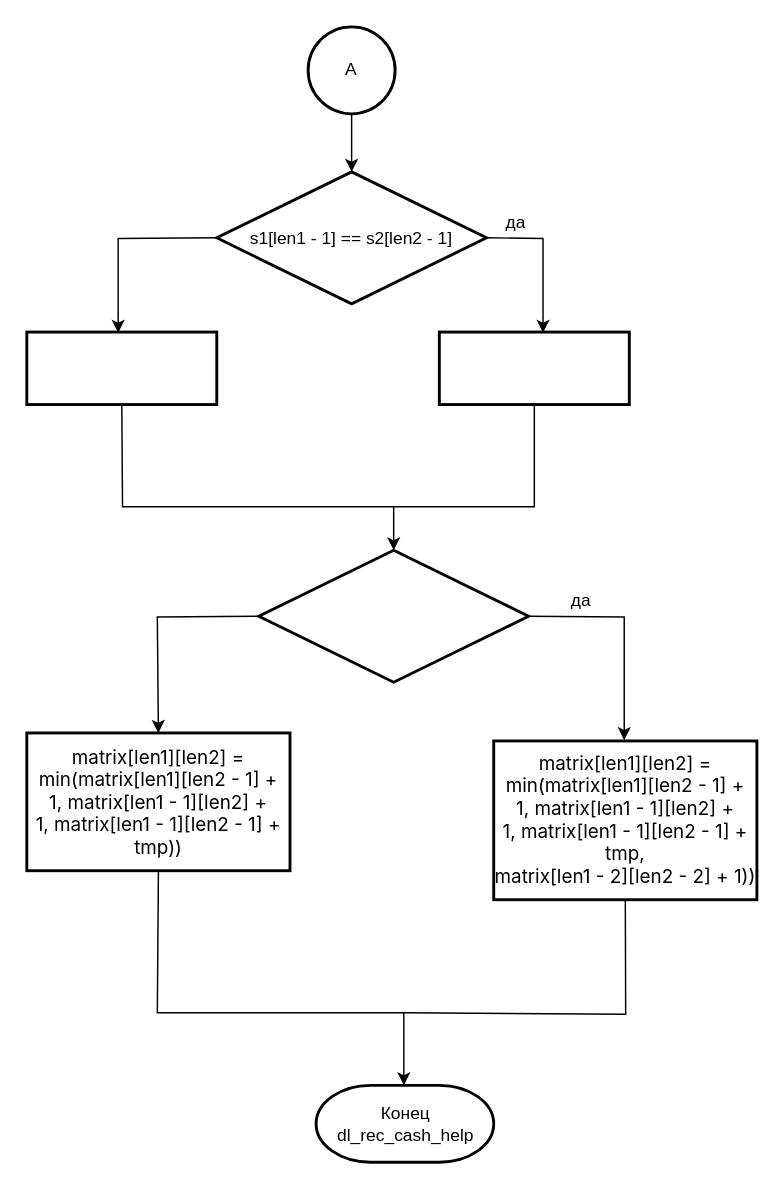
This 783x1188 diagram has some shape labels left out. Each missing label, with the centre of its shape:
len1 > 1 и len2 > 1 и s1[len1 - 1] == s2[len2] и s1[len1] == s2[len2 - 1]: [393,615]
tmp = 0: [533,367]
tmp = 1: [121,367]
